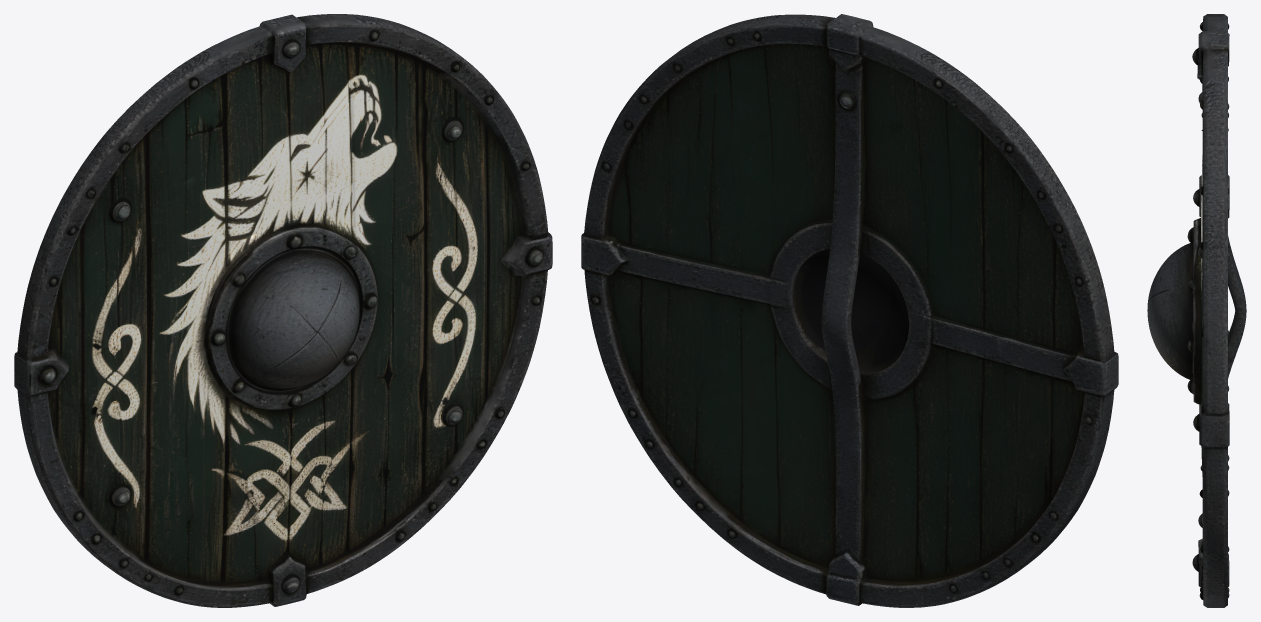
Rendered from pixellabs-viking-shield-4228.glb.
3 views of the same model, side by side, from view 1: azimuth 30°, elevation 25°; view 2: azimuth 150°, elevation 25°; view 3: azimuth 270°, elevation 25° (orthographic). The views are drawn at different scales.
Parts seen in each view (by area): view 1: node_0; view 2: node_0; view 3: node_0.
Part boxes in pixels (<box>): node_0: <box>14,14,552,607</box>; node_0: <box>581,14,1118,607</box>; node_0: <box>1147,14,1246,607</box>.
Bounding box in the file's own units: 1.14 × 1.19 × 0.1967.
Materials: 1 (1 with a texture image).
